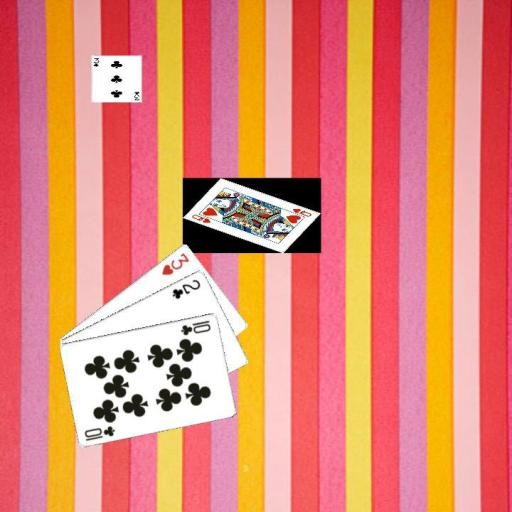10C: (81, 423, 117, 442), (178, 318, 213, 337)
2C: (169, 276, 202, 300)
3H: (159, 250, 191, 277)
